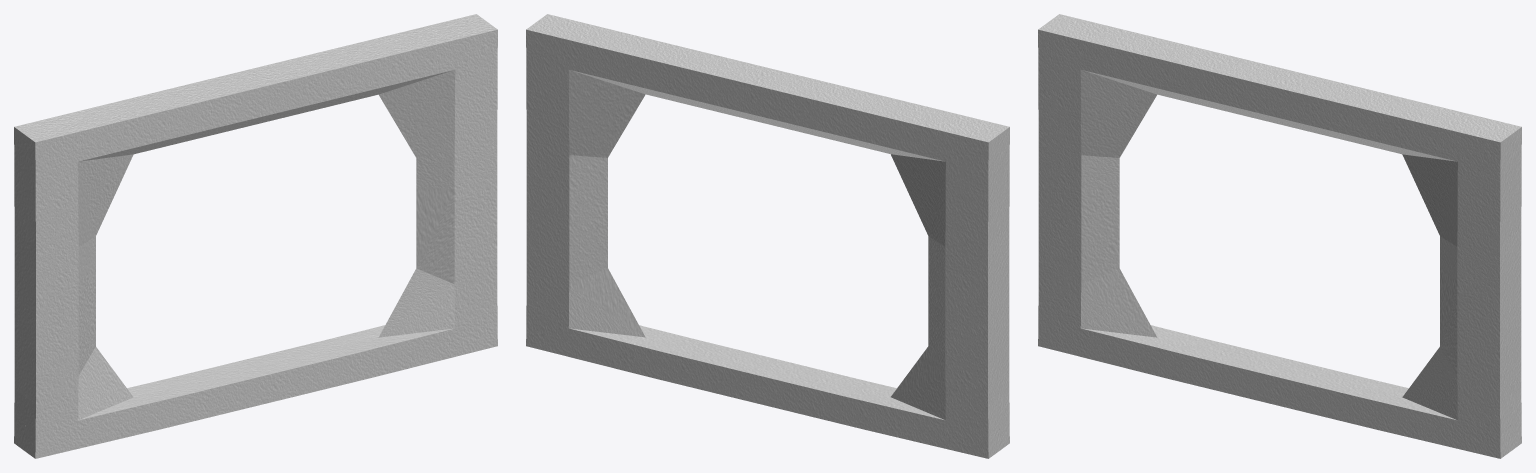
The model's file is Door_Pannel_Re.FBX.
3 renders of one model, left to right at view 1: azimuth 30°, elevation 25°; view 2: azimuth 150°, elevation 25°; view 3: azimuth 330°, elevation 25°, orthographic.
Parts seen in each view (by area): view 1: Door_Pannel; view 2: Door_Pannel; view 3: Door_Pannel.
Part boxes in pixels (x1,y1,x2,y2): Door_Pannel: (14, 14, 497, 458); Door_Pannel: (526, 14, 1009, 458); Door_Pannel: (1038, 14, 1521, 458).
Bounding box in the file's own units: 858 × 563 × 68.53.
1 material, 1 textured.
